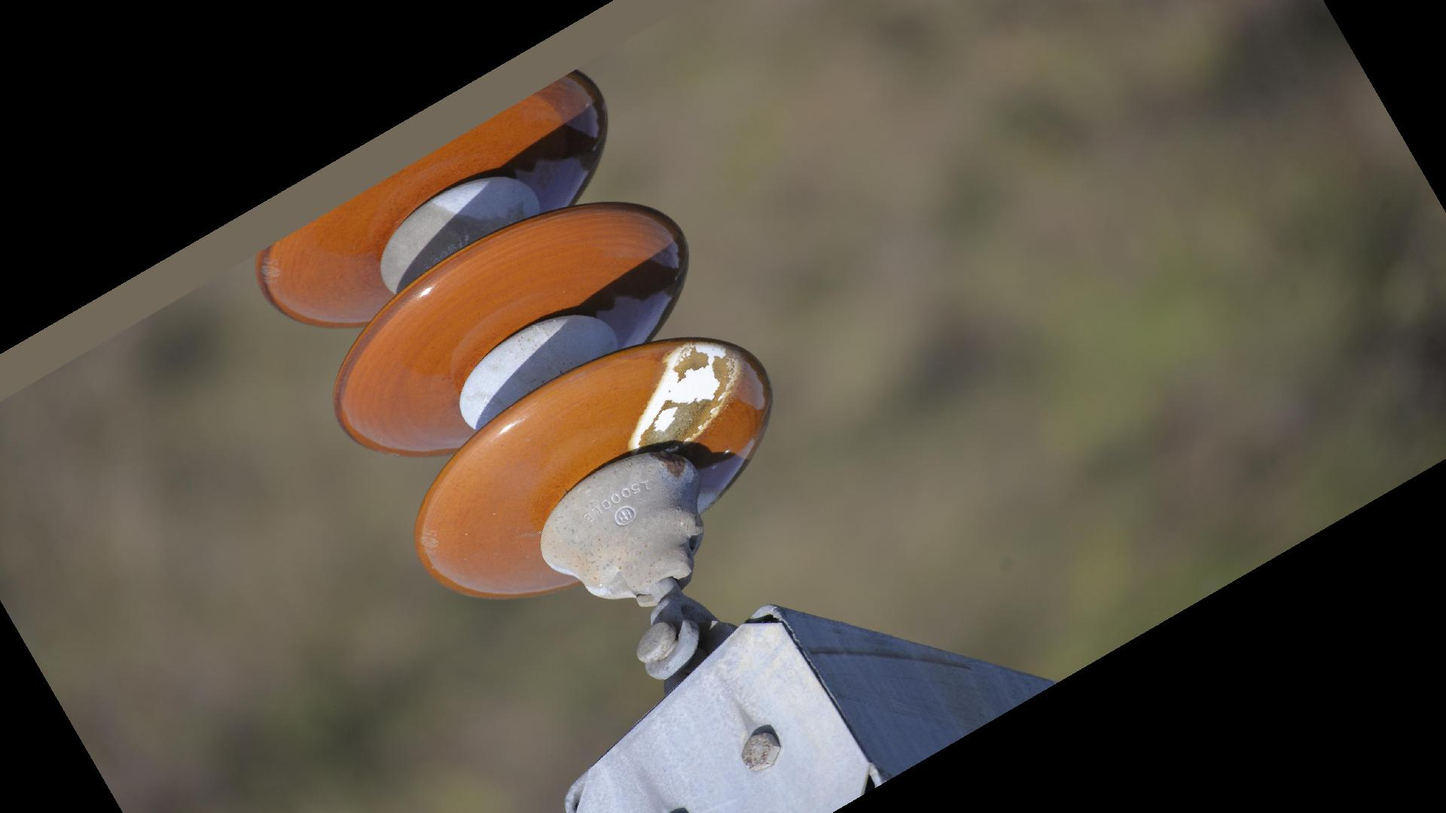insulator: (253, 59, 777, 617)
insulator_flashover: (624, 338, 748, 456)
